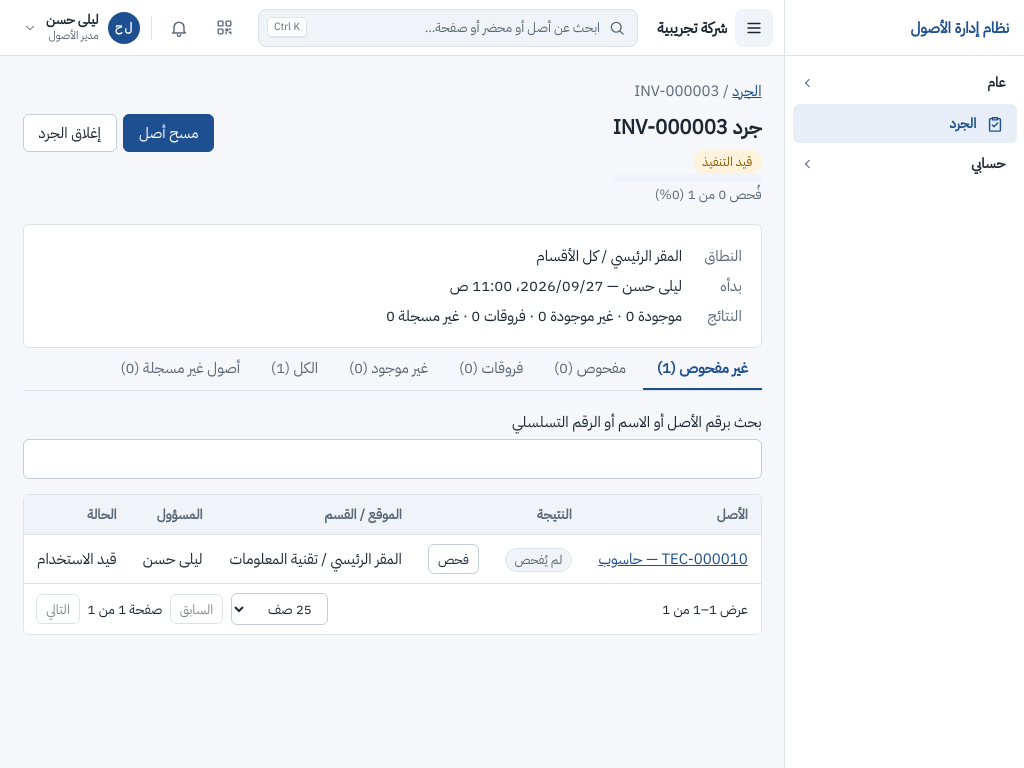
Inventory counting › marking an asset "not found" explains that its status will not change
This screenshot has width=1024, height=768.
Click the button "فحص".
click(453, 559)  # box [428,544,479,574]
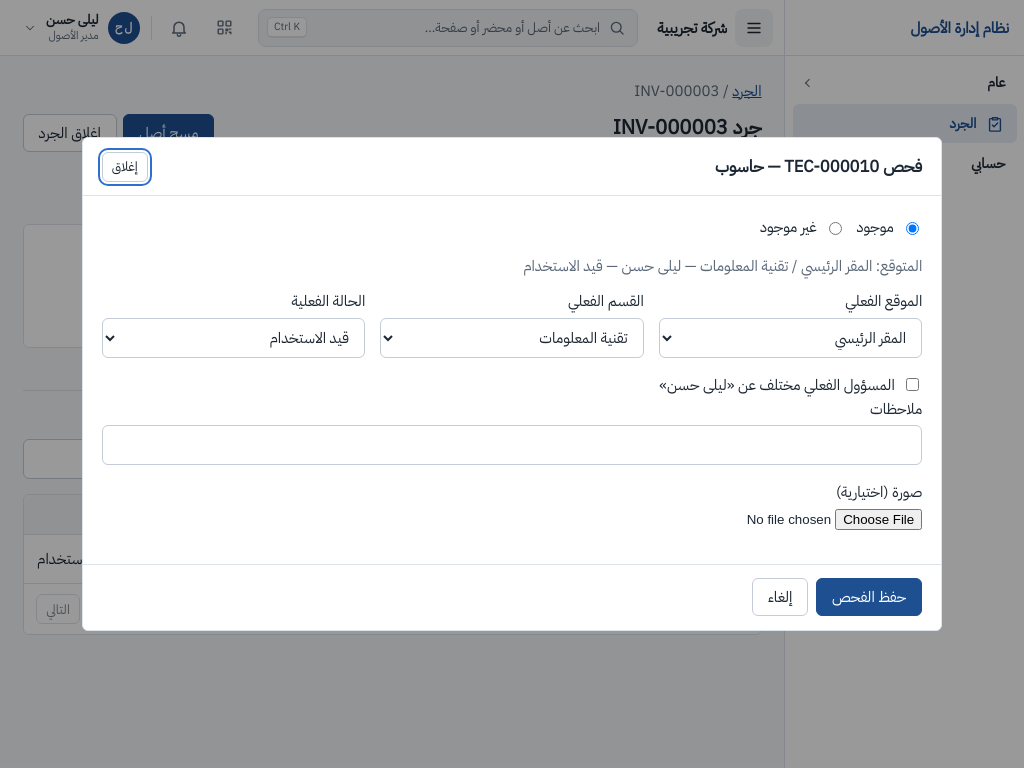
Click the radio button labelled "غير موجود".
click(836, 229)  # box [829,222,842,235]
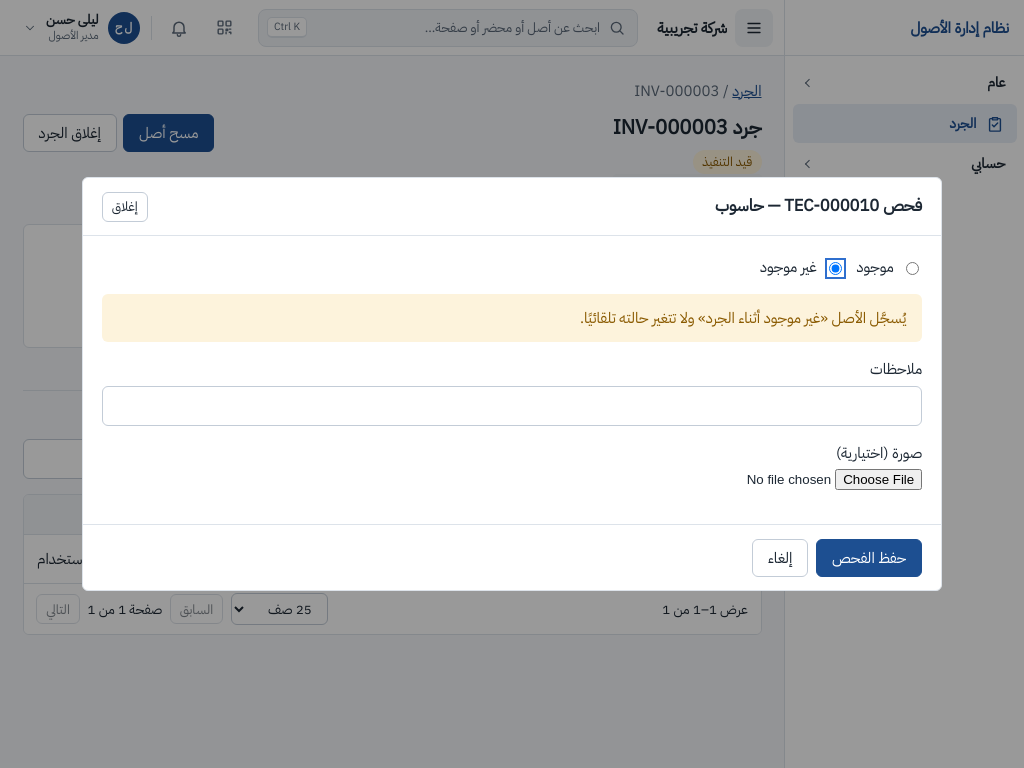
Expected: the text "لا تتغير حالته تلقائيًا" is shown, [580,307,906,329]
Expected: the label labelled "الموقع الفعلي" is gone
